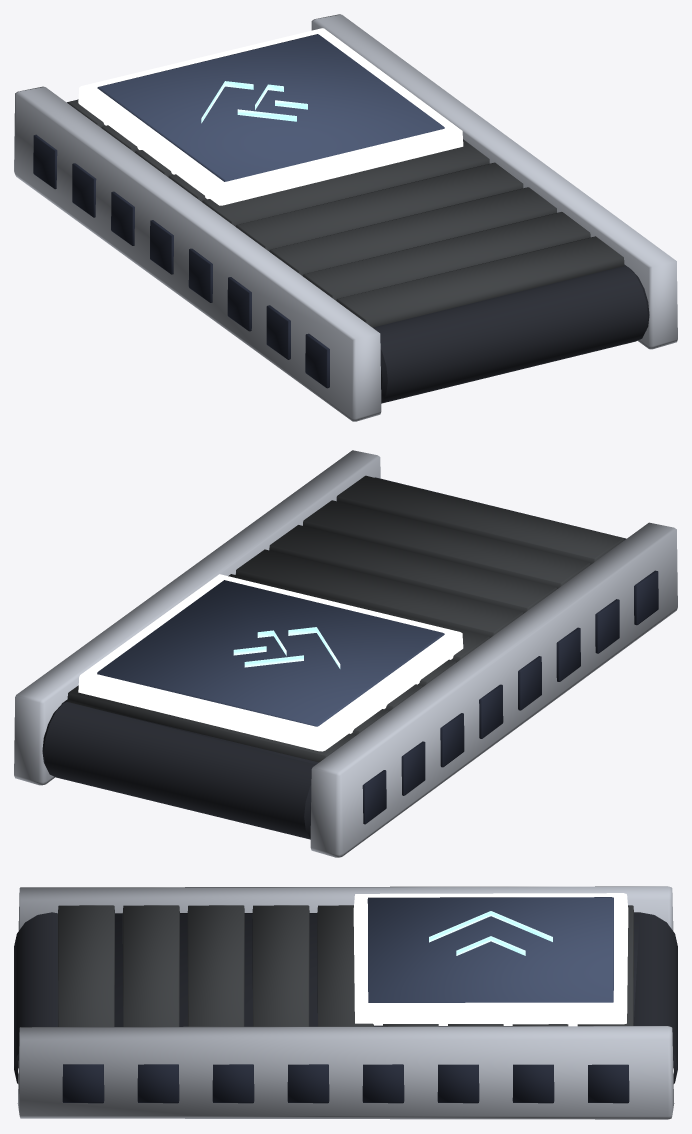
File: 43_conveyor_arrow_up.glb
3 views of the same model, one above another, from view 1: azimuth 30°, elevation 25°; view 2: azimuth 150°, elevation 25°; view 3: azimuth 270°, elevation 25° (orthographic). The views are drawn at different scales.
Visible parts, largest first — view 1: SideRail_L, PadScreen, EndRoller_1, SideRail_R, PadBase, BeltSlat_8, BeltSlat_7, BeltSlat_6, BeltSlat_5, BeltSlat_4, RollerHole_L_7, RollerHole_L_6 (+7 smaller); view 2: SideRail_L, PadScreen, EndRoller_-1, SideRail_R, PadBase, BeltSlat_8, BeltSlat_7, BeltSlat_6, BeltSlat_5, BeltSlat_0, BeltSlat_4, RollerHole_L_6 (+8 smaller); view 3: SideRail_R, PadScreen, SideRail_L, PadBase, BeltSlat_5, BeltSlat_6, BeltSlat_7, BeltSlat_8, EndRoller_1, EndRoller_-1, BeltSlat_4, Chassis (+11 smaller).
Part boxes in pixels (<box>): SideRail_L: <box>14,86,381,421</box>; PadScreen: <box>97,34,444,181</box>; EndRoller_1: <box>373,265,649,403</box>; SideRail_R: <box>311,14,677,349</box>; PadBase: <box>78,28,463,205</box>; BeltSlat_8: <box>336,236,624,327</box>; BeltSlat_7: <box>303,212,590,300</box>; BeltSlat_6: <box>269,187,556,276</box>; BeltSlat_5: <box>236,162,523,251</box>; BeltSlat_4: <box>202,139,489,226</box>; RollerHole_L_7: <box>305,333,329,388</box>; RollerHole_L_6: <box>266,305,290,359</box>; SideRail_L: <box>310,522,677,857</box>; PadScreen: <box>97,580,444,726</box>; EndRoller_-1: <box>42,702,315,839</box>; SideRail_R: <box>14,450,380,785</box>; PadBase: <box>78,574,463,751</box>; BeltSlat_8: <box>336,475,623,564</box>; BeltSlat_7: <box>303,500,590,588</box>; BeltSlat_6: <box>269,525,556,613</box>; BeltSlat_5: <box>235,549,523,637</box>; BeltSlat_0: <box>67,685,355,762</box>; BeltSlat_4: <box>228,574,489,662</box>; RollerHole_L_6: <box>595,599,619,653</box>; SideRail_R: <box>17,1026,674,1119</box>; PadScreen: <box>367,897,613,1002</box>; SideRail_L: <box>18,886,673,930</box>; PadBase: <box>353,893,628,1026</box>; BeltSlat_5: <box>252,905,309,1026</box>; BeltSlat_6: <box>187,905,244,1026</box>; BeltSlat_7: <box>122,905,179,1026</box>; BeltSlat_8: <box>58,905,114,1026</box>; EndRoller_1: <box>14,912,58,1083</box>; EndRoller_-1: <box>633,912,677,1083</box>; BeltSlat_4: <box>317,905,373,1026</box>; Chassis: <box>114,912,639,1026</box>.
Bounding box in the file's own units: 0.972 × 0.292 × 1.74.
